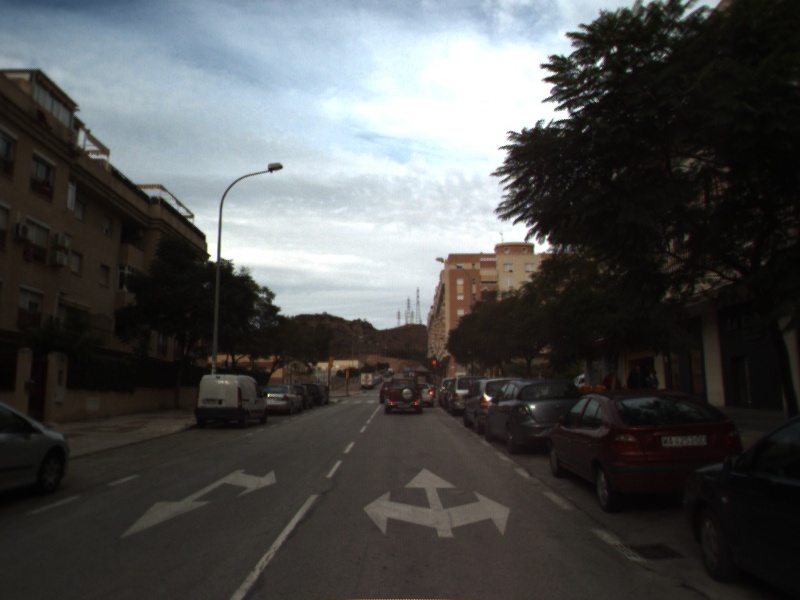STRAIGHT_LEFT_RIGHT: (361, 466, 512, 540)
